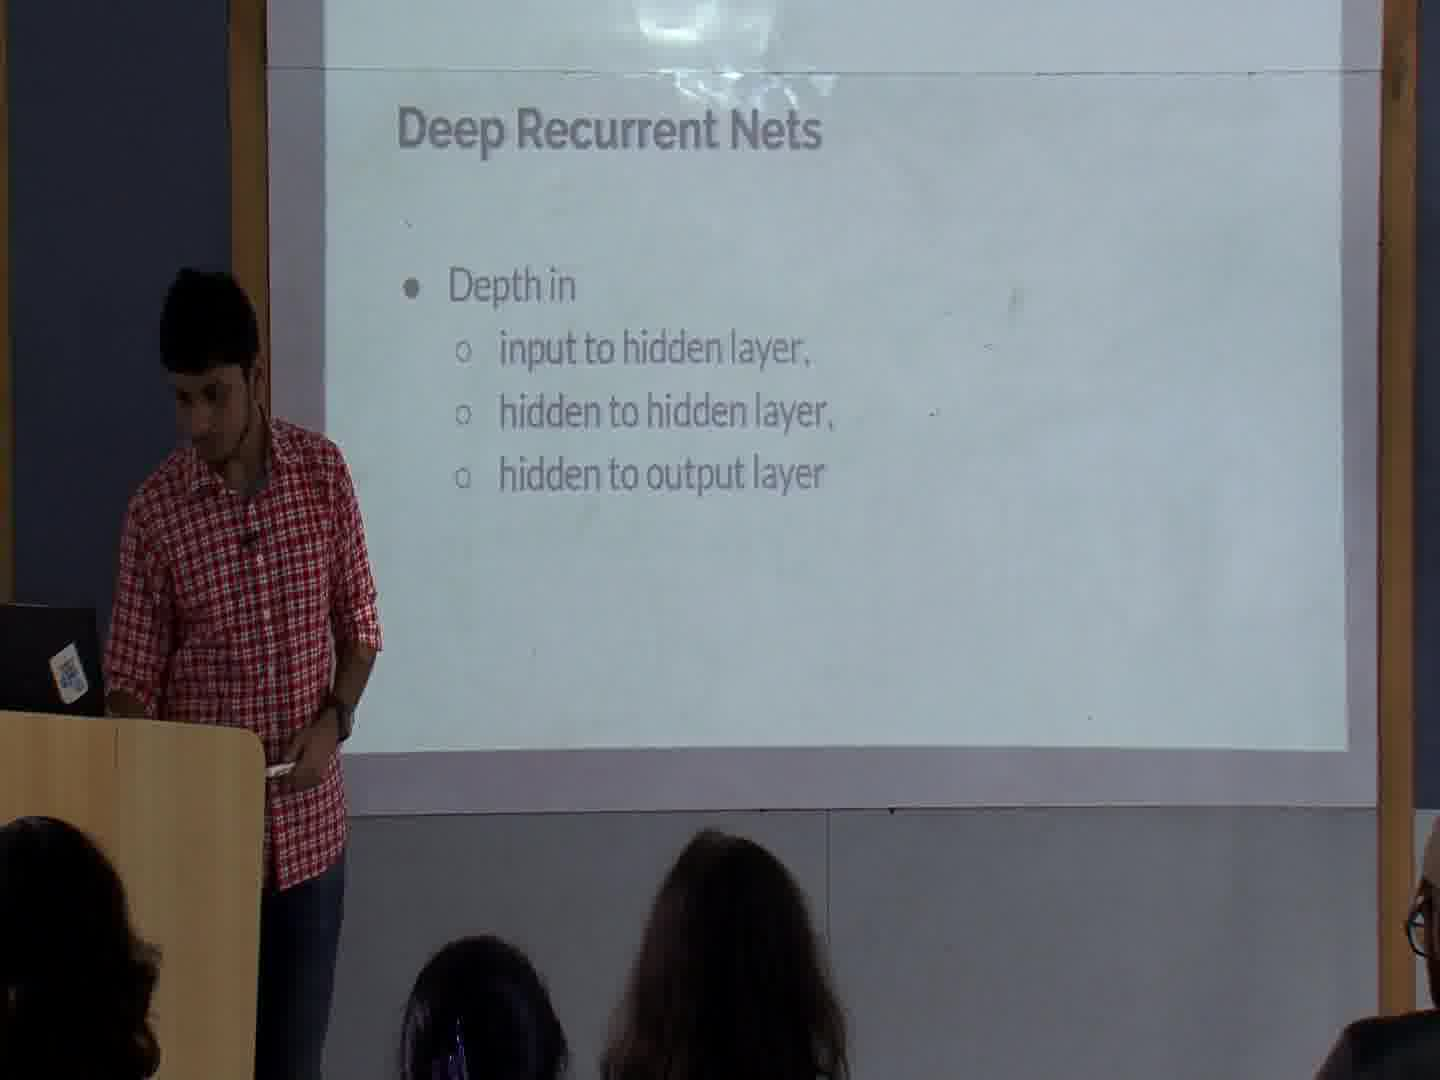slide: (323, 1, 1345, 751)
